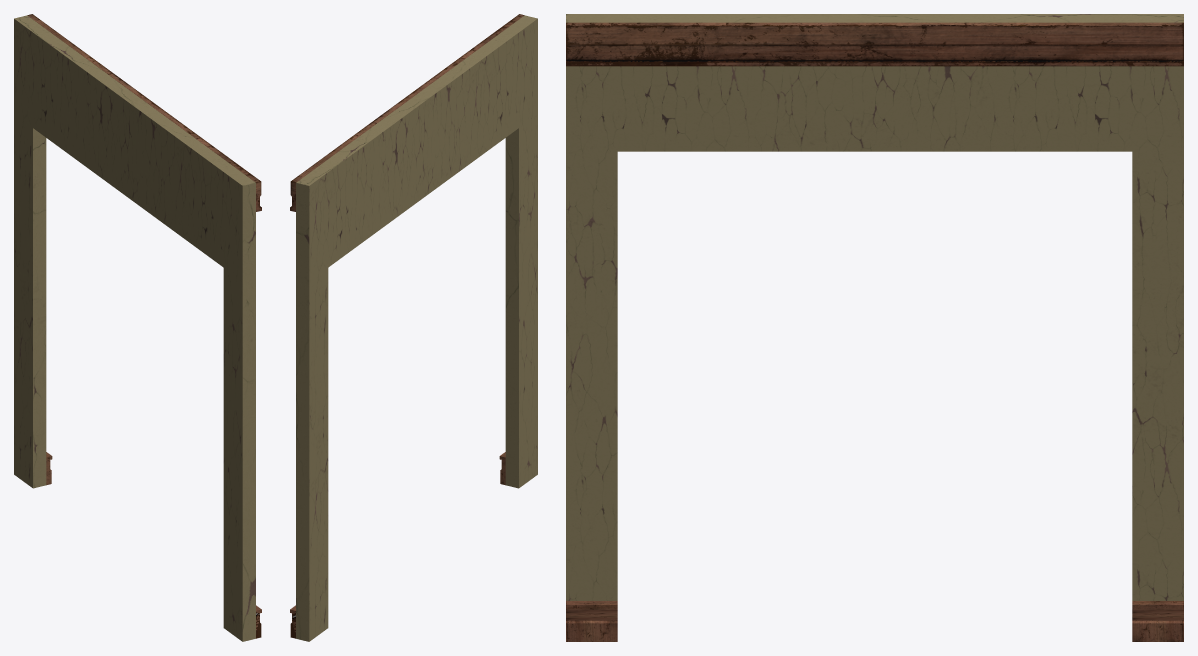
File: Wall_3m_Doorway_A2.fbx
3 renders of one model, left to right at view 1: azimuth 30°, elevation 25°; view 2: azimuth 150°, elevation 25°; view 3: azimuth 270°, elevation 25°, orthographic. The views are drawn at different scales.
Parts seen in each view (by area): view 1: Wall_3m_Doorway_A.004; view 2: Wall_3m_Doorway_A.004; view 3: Wall_3m_Doorway_A.004.
Part boxes in pixels (x1,y1,x2,y2): Wall_3m_Doorway_A.004: (14, 14, 261, 641); Wall_3m_Doorway_A.004: (290, 14, 537, 641); Wall_3m_Doorway_A.004: (566, 14, 1183, 641).
Bounding box in the file's own units: 0.1458 × 3.3 × 3.
